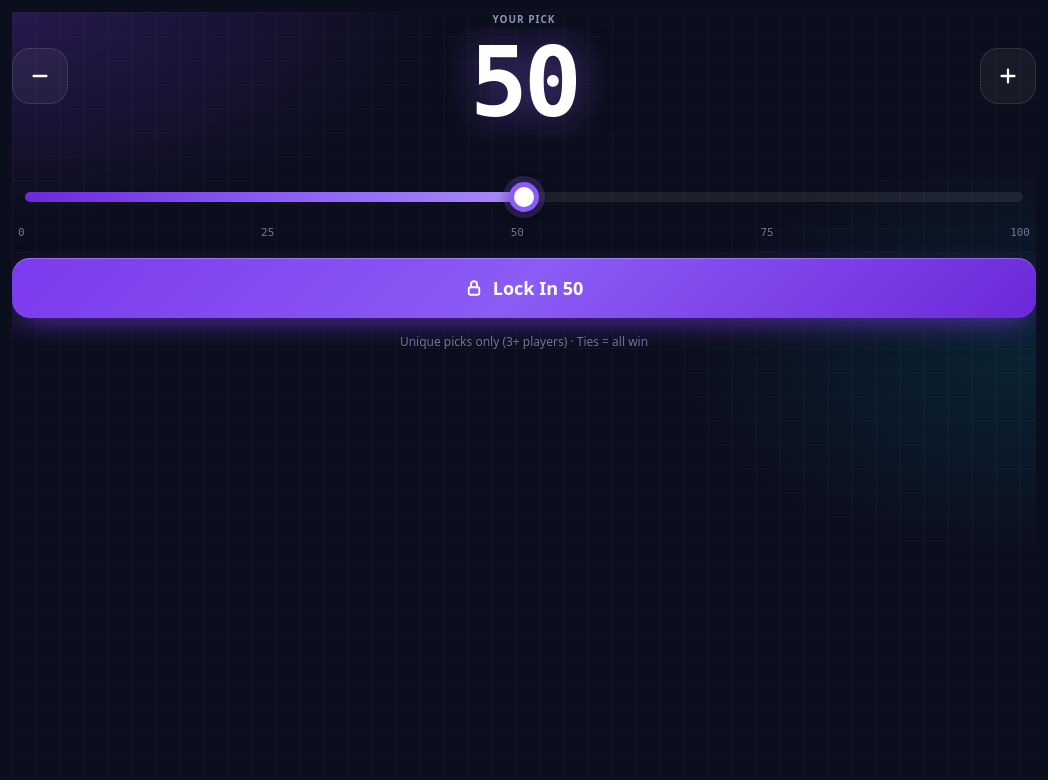
Test: NumberSlider › dragging the slider updates the pending value
Set the slider named "Pick a number between 0 and 100" to "42" at coordinates (443, 197), box [12,175,1036,219]
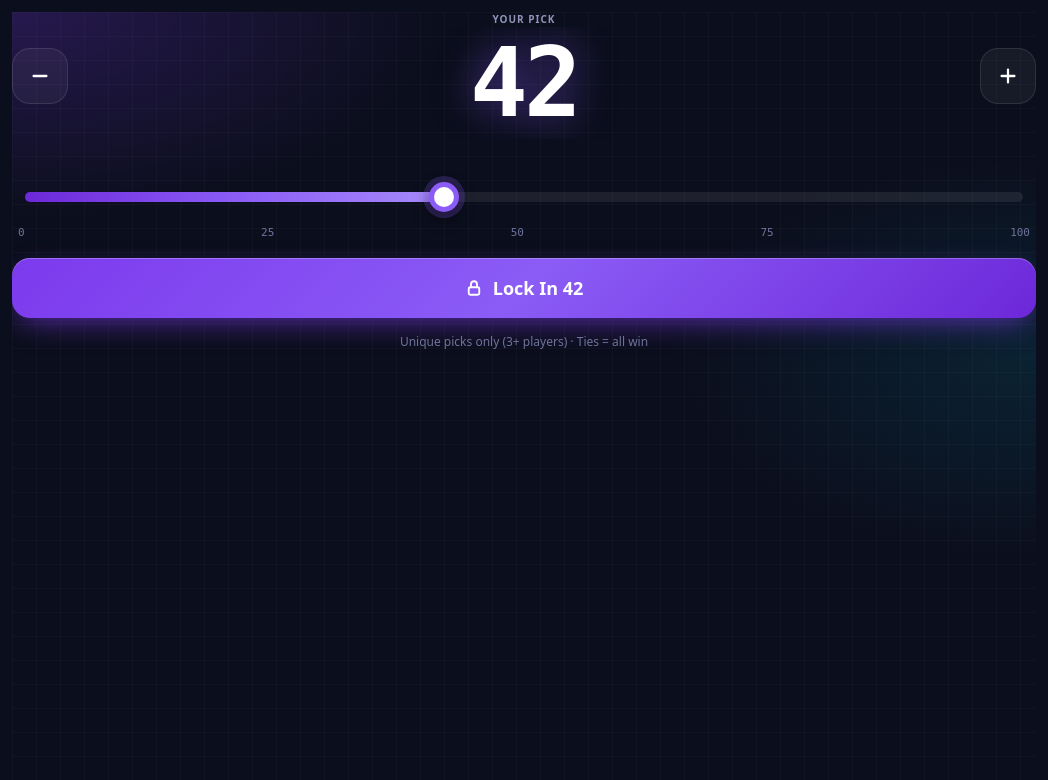
Now the number field named "Enter number directly" holds "42", box [429,27,619,139]
Now the button "Lock In 42" is shown, box [12,258,1036,318]
